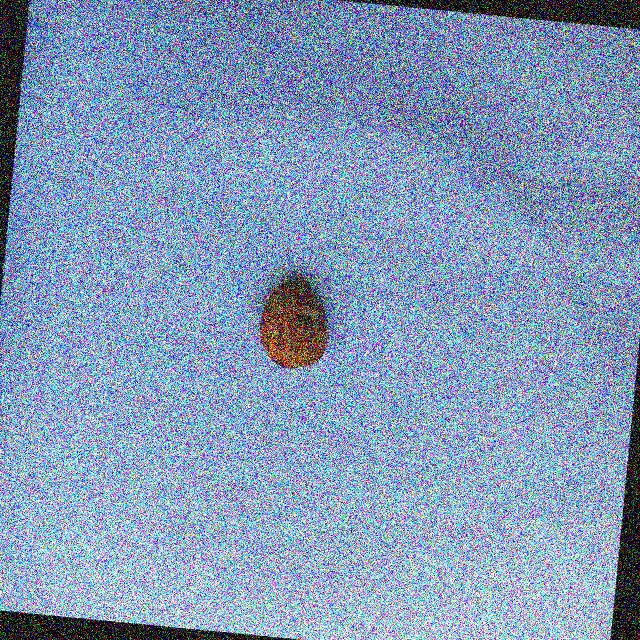grade3: (254, 271, 338, 376)
